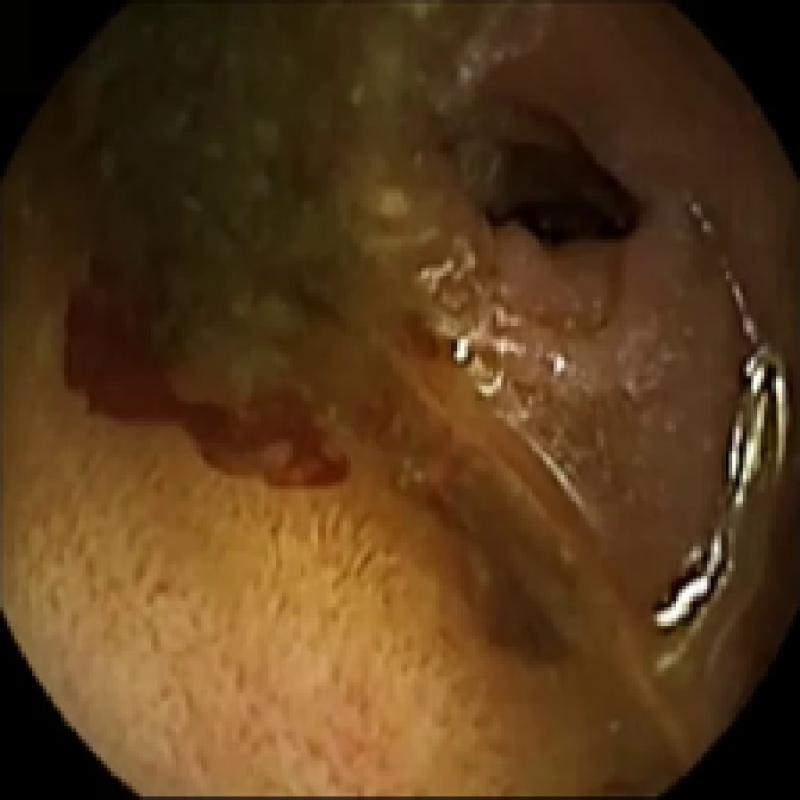bleeding: (54, 260, 354, 486)
